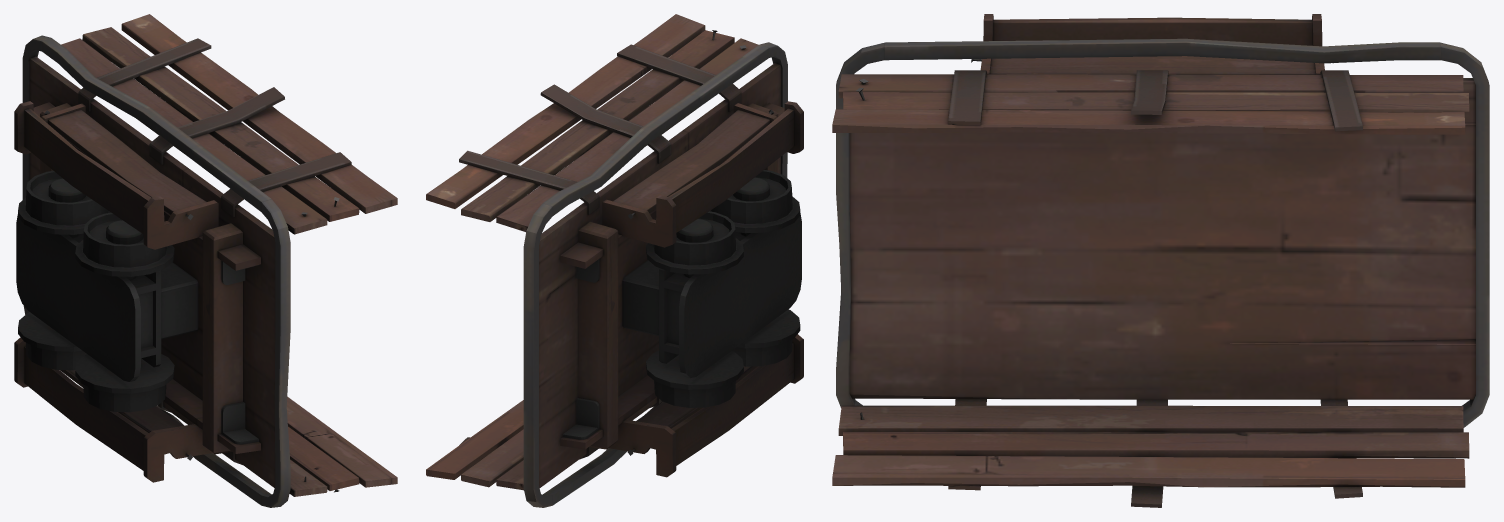
Rendered from props_trainyard_cart_base_separate.glb.
The picture shows the model from 3 angles, left to right: view 1: azimuth 30°, elevation 25°; view 2: azimuth 150°, elevation 25°; view 3: azimuth 270°, elevation 25°; orthographic projection. The views are drawn at different scales.
Visible parts, largest first — view 1: models/props_trainyard/cart_base_separate; view 2: models/props_trainyard/cart_base_separate; view 3: models/props_trainyard/cart_base_separate.
Boxes of the visible parts, <box> form: models/props_trainyard/cart_base_separate: <box>14,14,397,507</box>; models/props_trainyard/cart_base_separate: <box>426,14,803,507</box>; models/props_trainyard/cart_base_separate: <box>832,14,1489,507</box>.
Bounding box in the file's own units: 47.36 × 61.67 × 92.53.
1 material, 1 textured.
